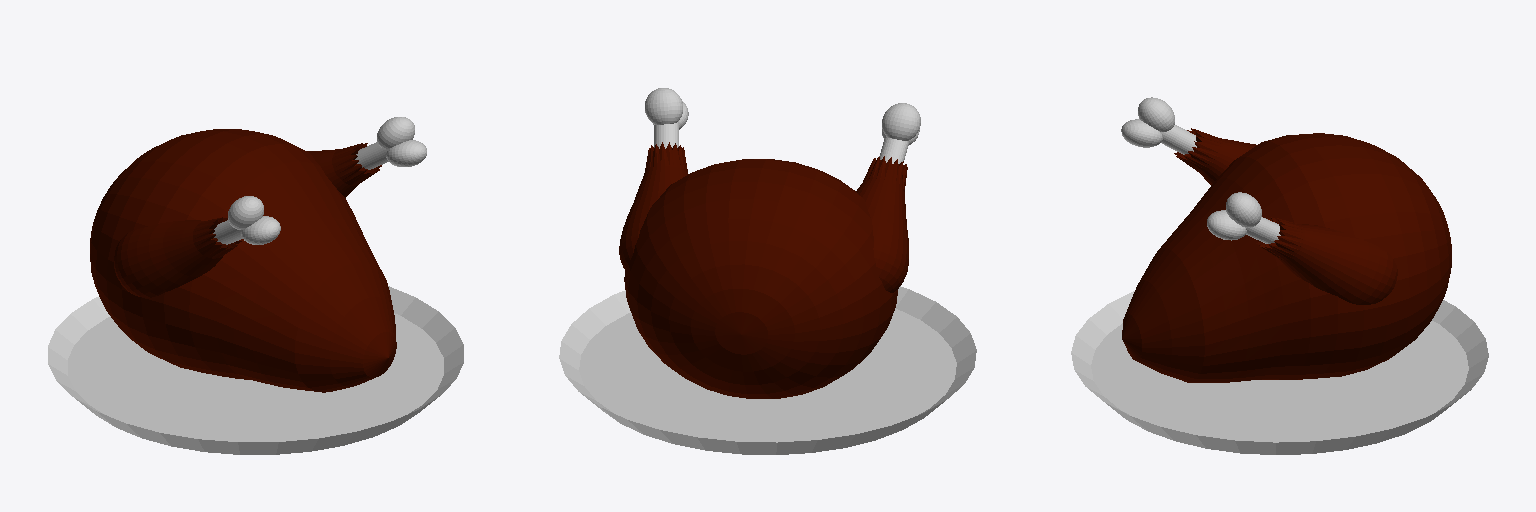
File: chicken_cooked.obj
3 views of the same model, side by side, from view 1: azimuth 30°, elevation 25°; view 2: azimuth 150°, elevation 25°; view 3: azimuth 270°, elevation 25° (orthographic).
Parts seen in each view (by area): view 1: Sphere.002; view 2: Sphere.002; view 3: Sphere.002.
Boxes of the visible parts, x1=… form: Sphere.002: x1=48, y1=117, x2=463, y2=454; Sphere.002: x1=559, y1=88, x2=976, y2=454; Sphere.002: x1=1071, y1=97, x2=1488, y2=454.
Size of the model in its own units: 0.7339 by 0.4731 by 0.7339.